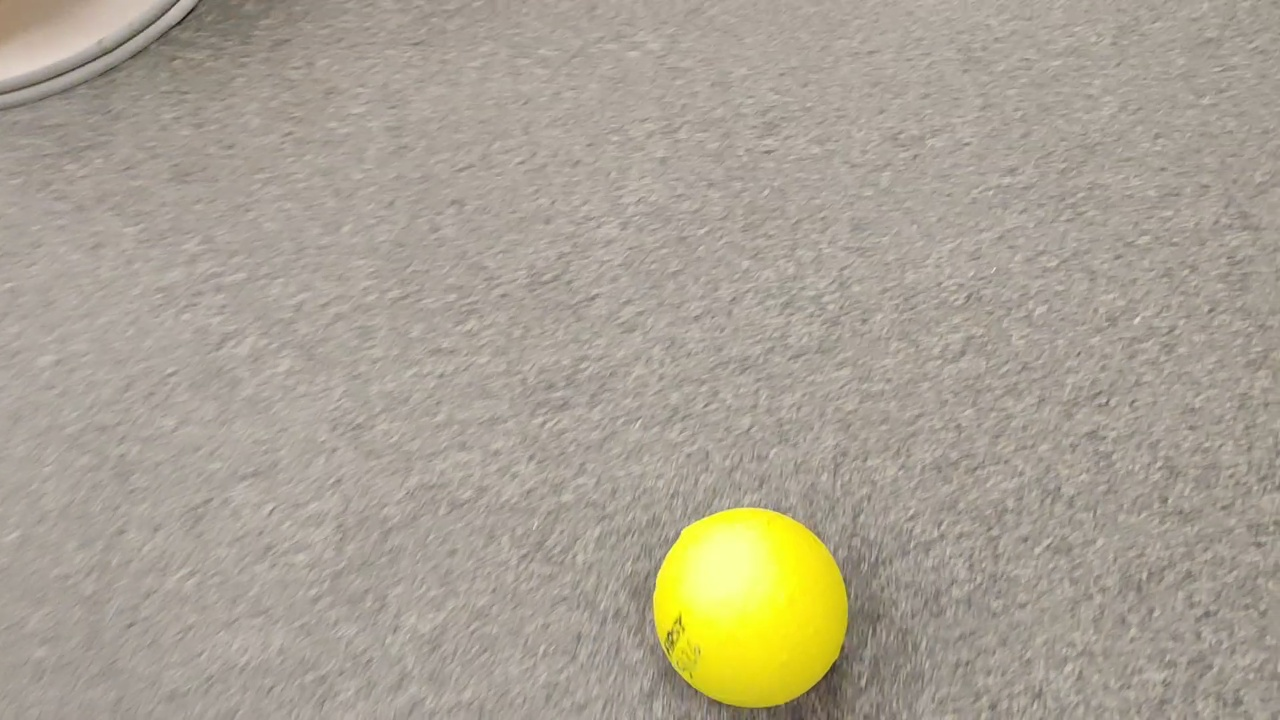Ball: (654, 507, 850, 707)
